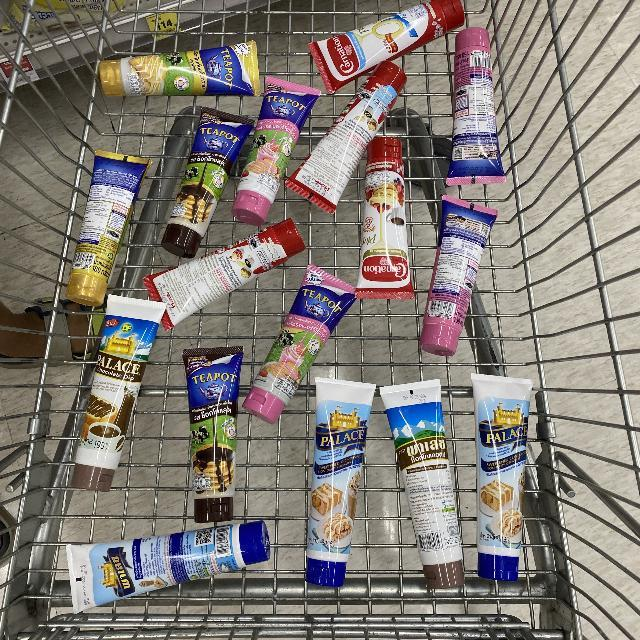Squeeze Tube: (34, 0, 576, 623)
